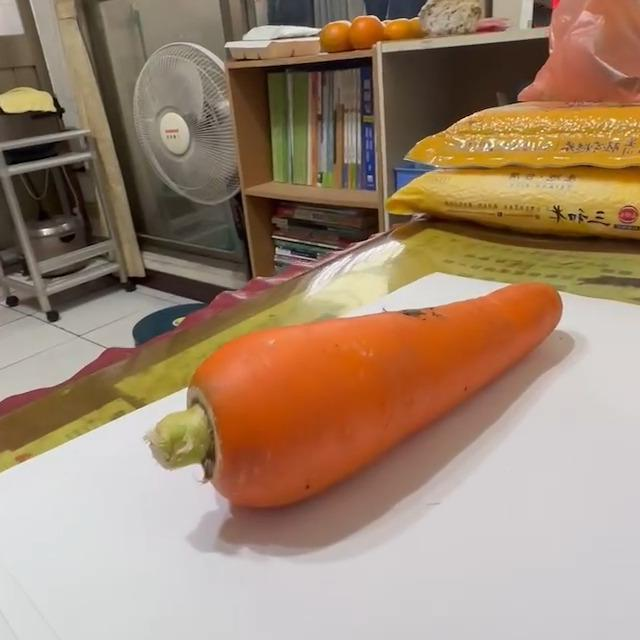carrot: (151, 281, 563, 513)
